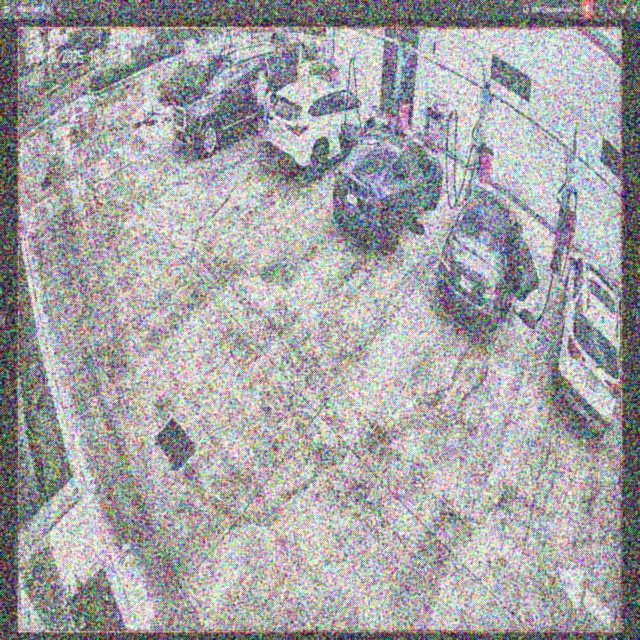Car: (439, 186, 535, 329), (337, 125, 444, 249), (266, 79, 378, 177)
